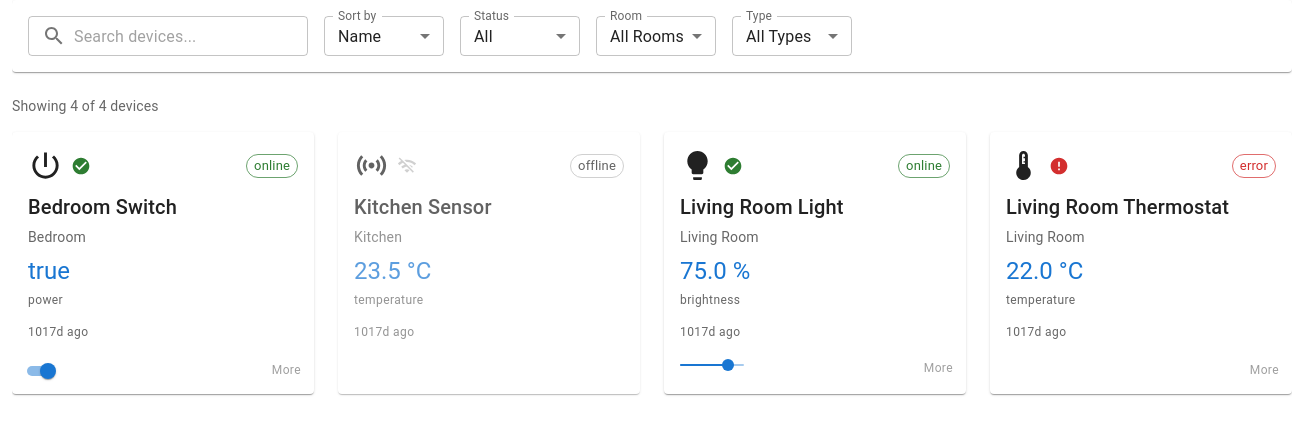
DeviceGrid › filters devices by search term
In the field with placeholder "Search devices...": x=191, y=36 [74, 16, 308, 56], type "Kitchen"
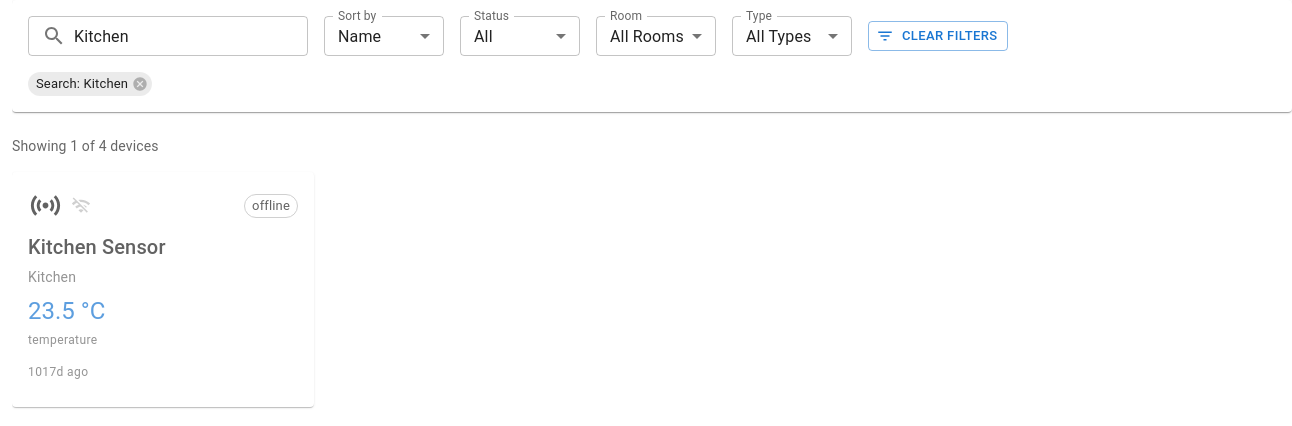
Expected: the heading "Kitchen Sensor" is shown, [28, 235, 166, 259]
Result: the heading "Living Room Light" is gone
Result: the heading "Bedroom Switch" is gone
